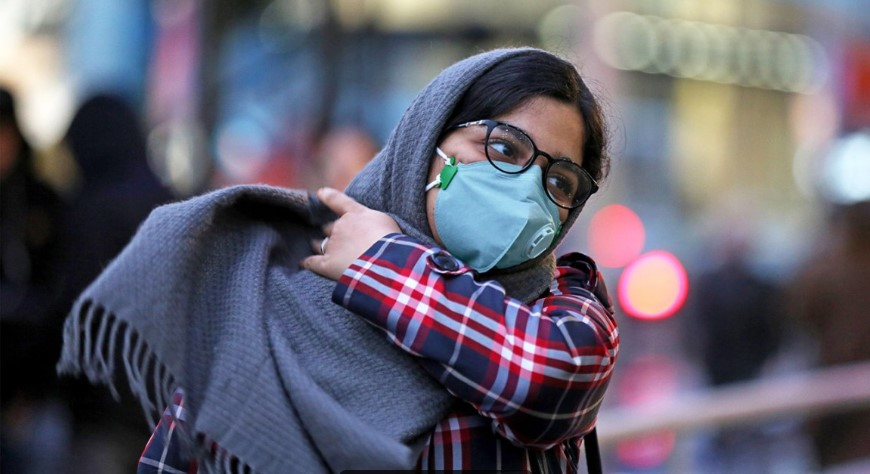face_with_mask: (356, 50, 606, 275)
